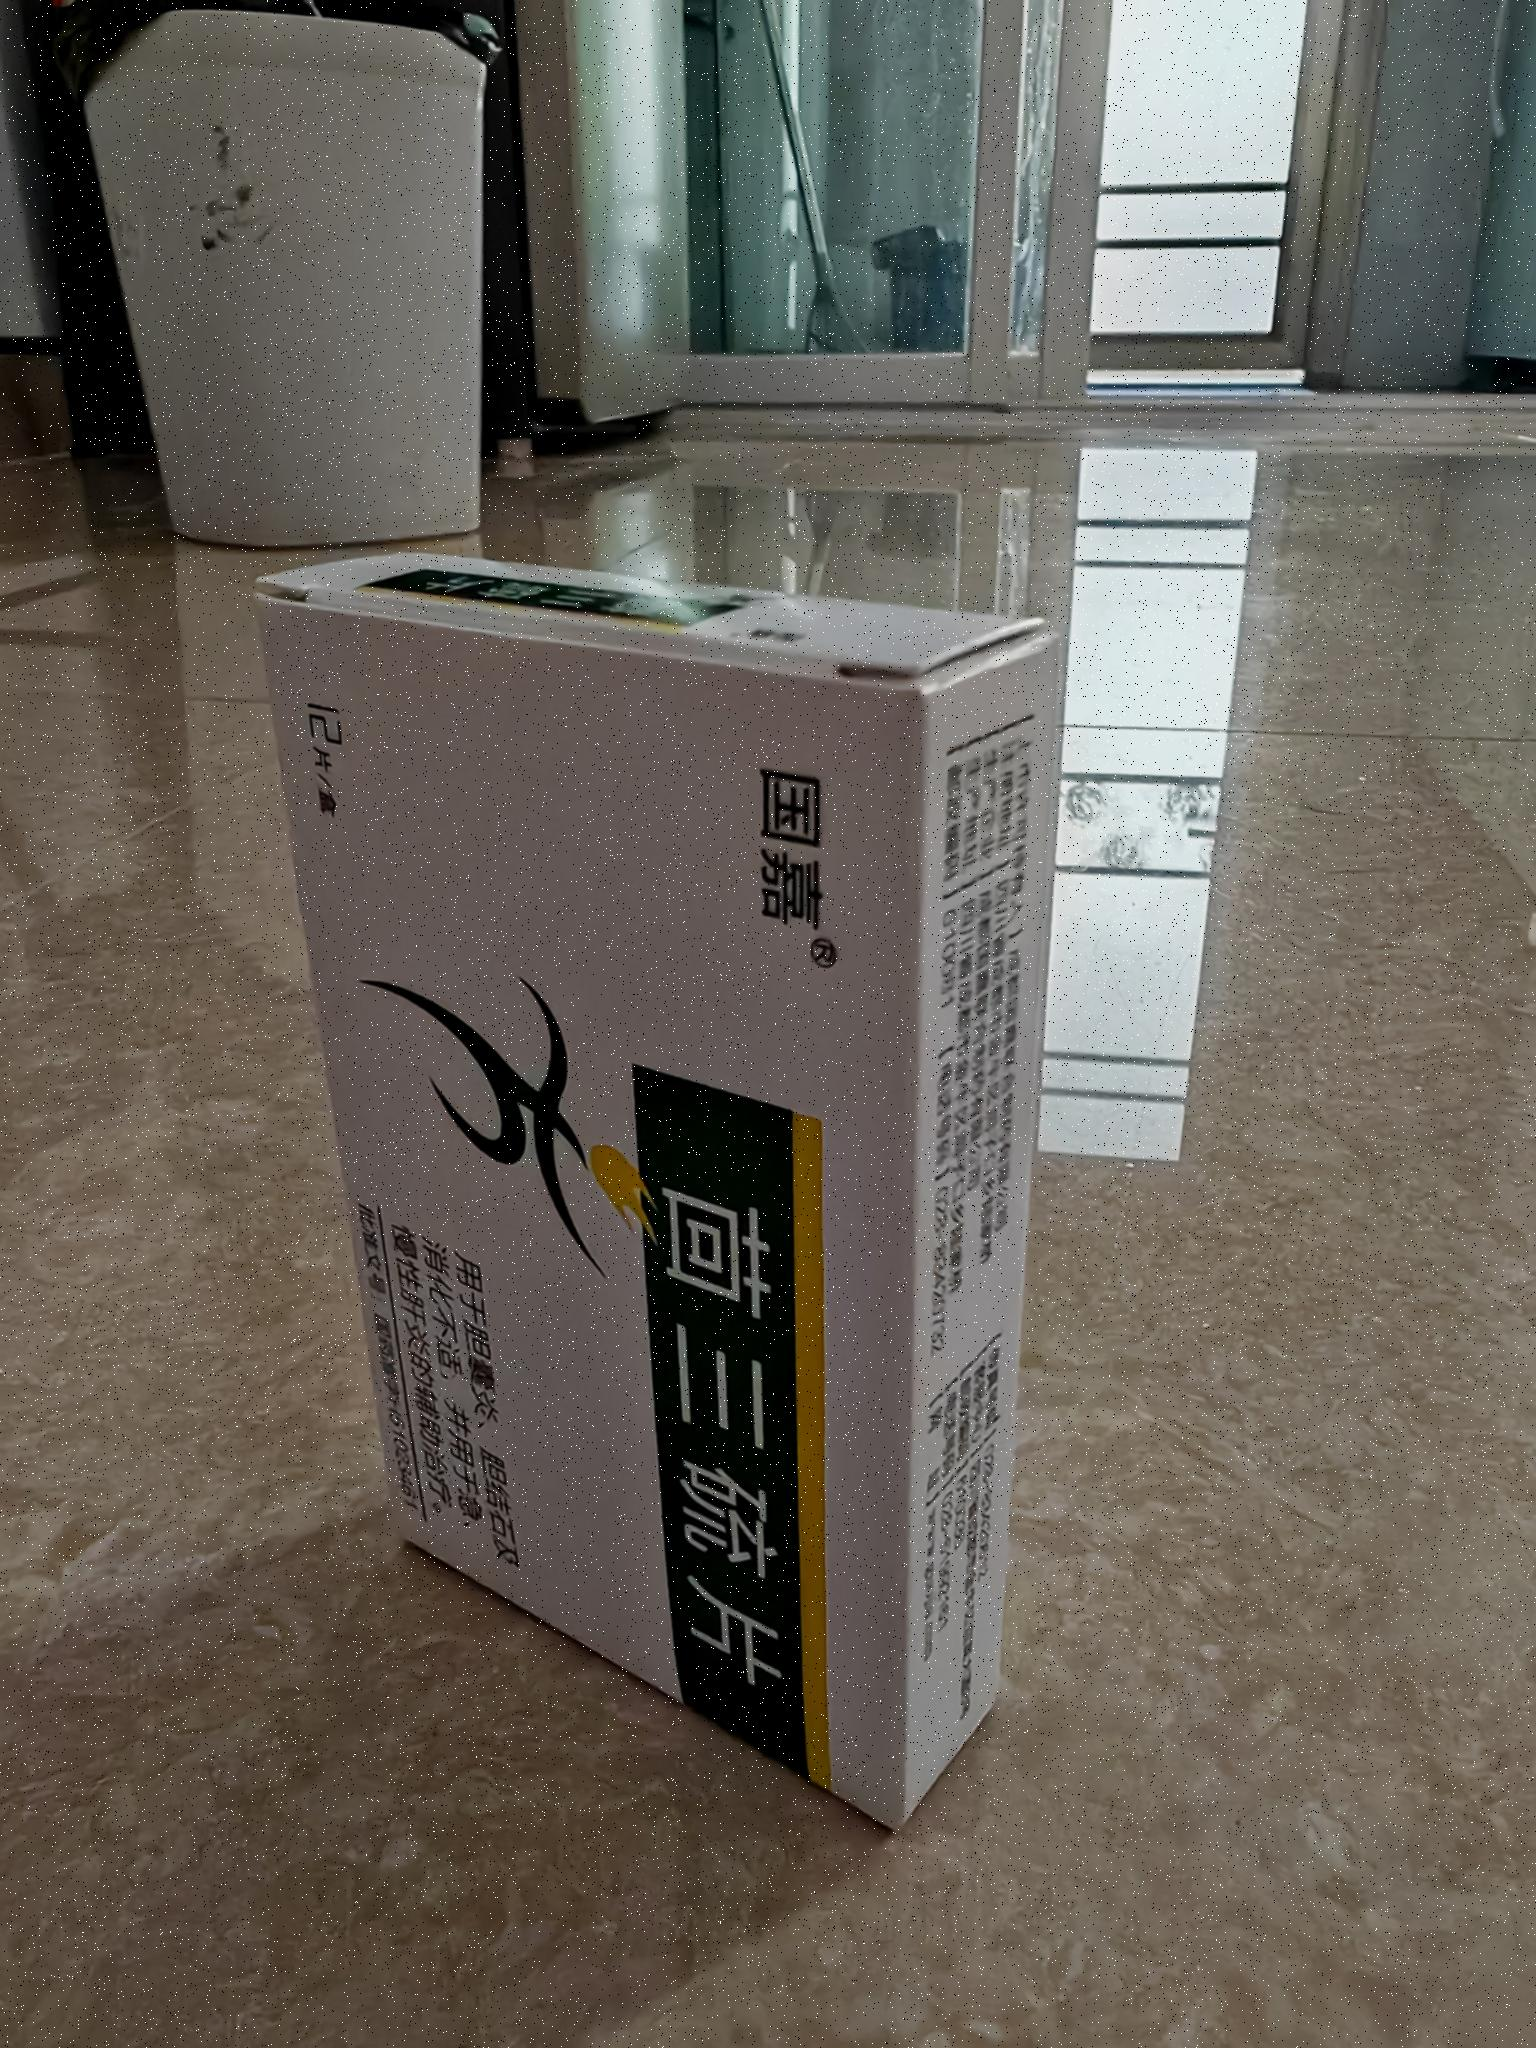Medicine4: (236, 532, 1078, 1858)
